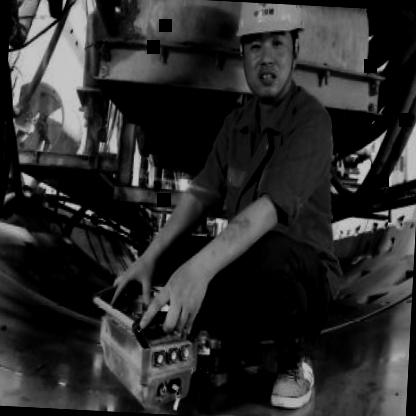helmet: (223, 1, 316, 111)
